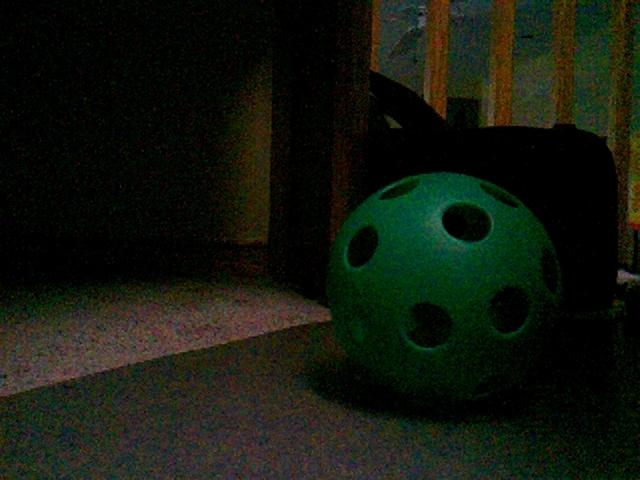Green: (322, 171, 562, 404)
